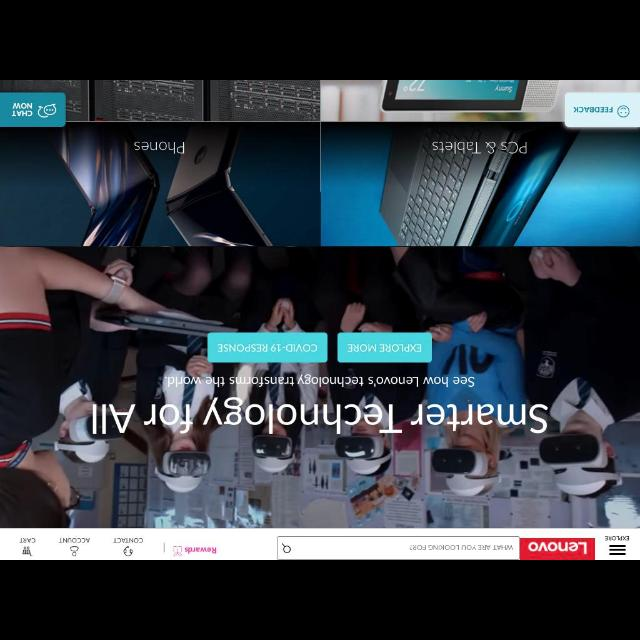backgroundimage: (1, 80, 640, 528)
icon: (38, 104, 56, 118), (609, 545, 625, 555), (617, 105, 629, 117), (23, 547, 33, 557), (282, 542, 290, 554), (174, 546, 182, 556), (124, 546, 132, 556), (70, 546, 78, 556)
input: (277, 536, 519, 560)
text: (92, 396, 548, 434), (165, 374, 475, 388), (432, 142, 528, 154), (218, 344, 318, 352), (529, 542, 587, 554), (347, 343, 421, 352), (409, 544, 513, 550), (135, 142, 185, 154), (185, 546, 217, 554), (12, 104, 32, 116), (574, 107, 612, 113), (58, 538, 90, 542), (114, 538, 142, 542), (606, 536, 628, 540), (20, 538, 36, 542)
textbutton: (208, 332, 326, 362), (337, 332, 431, 362), (564, 93, 640, 127), (0, 93, 66, 127)
toolbar: (1, 528, 640, 560)
